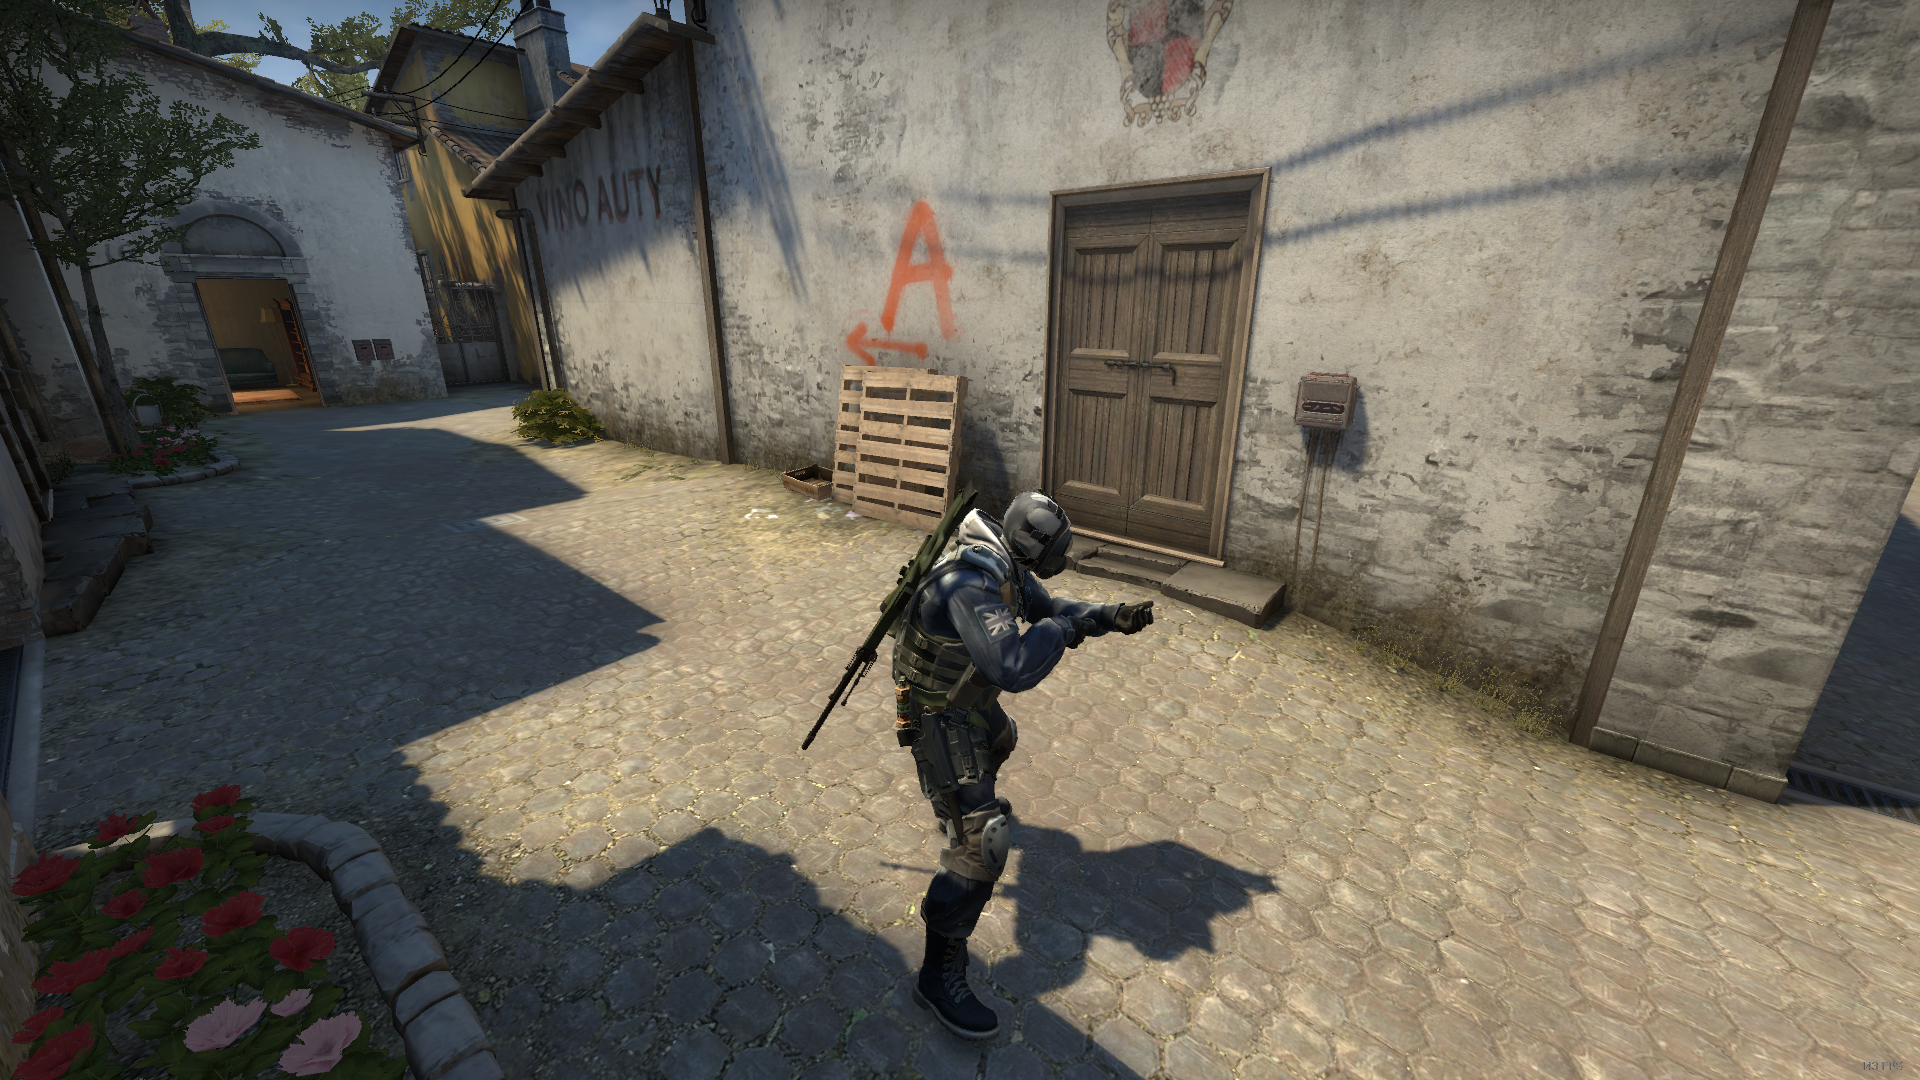ct: (864, 487, 1172, 1044)
